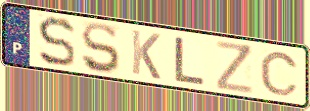C: (258, 50, 300, 97)
K: (129, 27, 162, 82)
L: (173, 35, 208, 87)
S: (79, 21, 122, 76), (35, 15, 77, 69)
Z: (215, 39, 256, 96)
